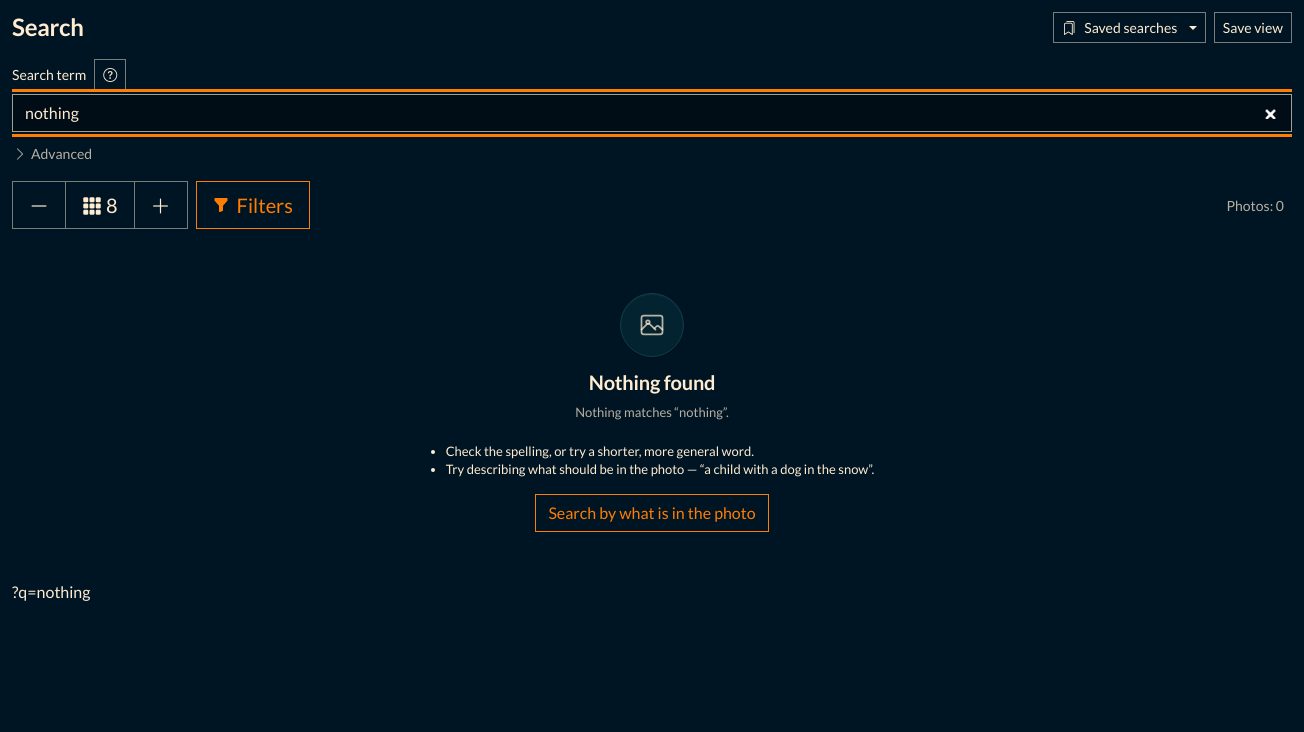
Test: SearchPage › offers describing the photo from the empty state and switches the search to it
The image size is (1304, 732).
Check: the text "Nothing found" is shown, box [589, 370, 715, 396]
Click the button "Search by what is in the photo". click: (652, 513)
box: [535, 494, 769, 532]
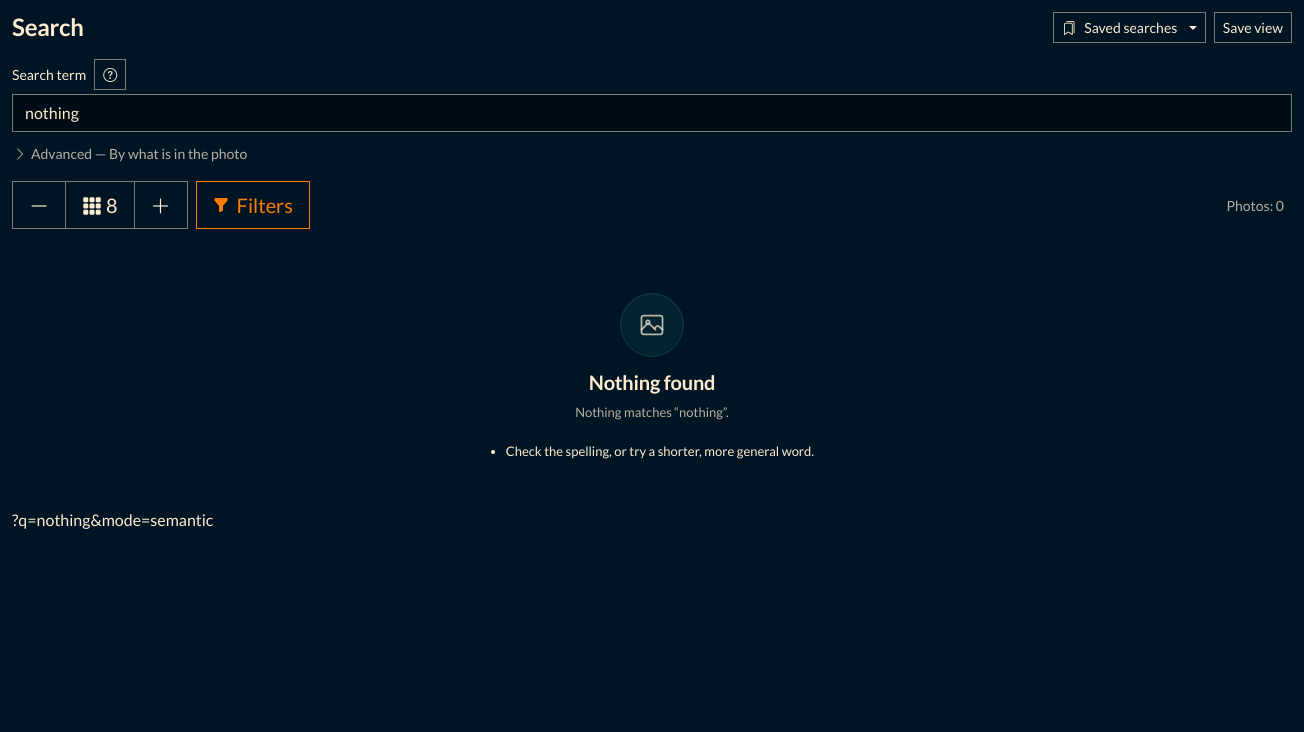
Check: the text with test id "search" shows "mode=semantic", box [12, 510, 213, 529]
